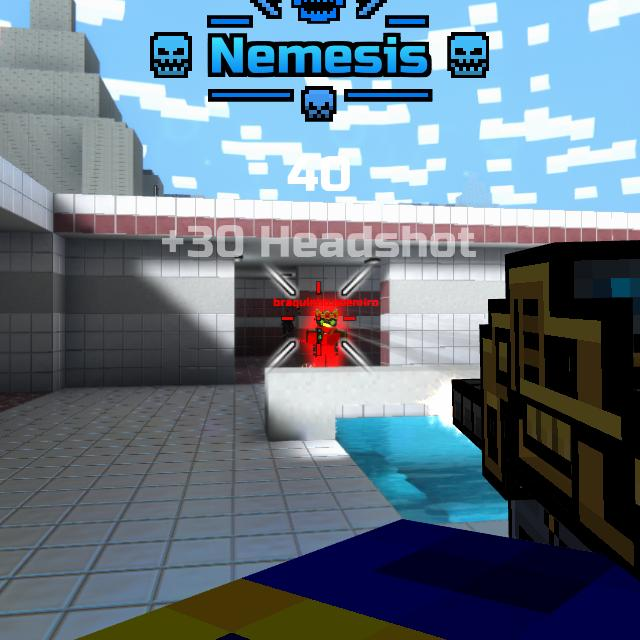Enemy: (305, 312, 345, 368)
